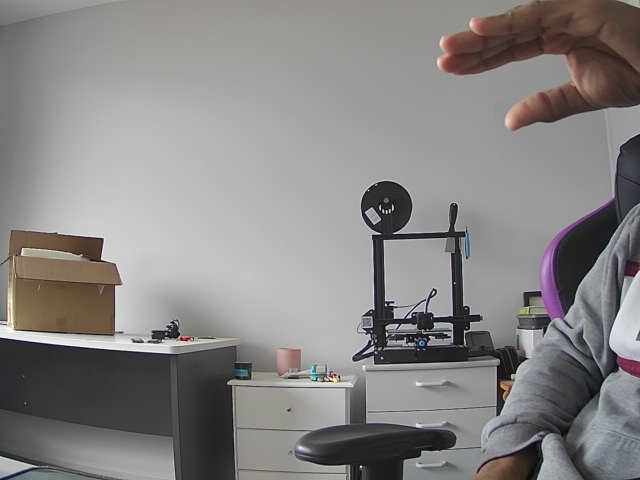No: (426, 1, 640, 135)
